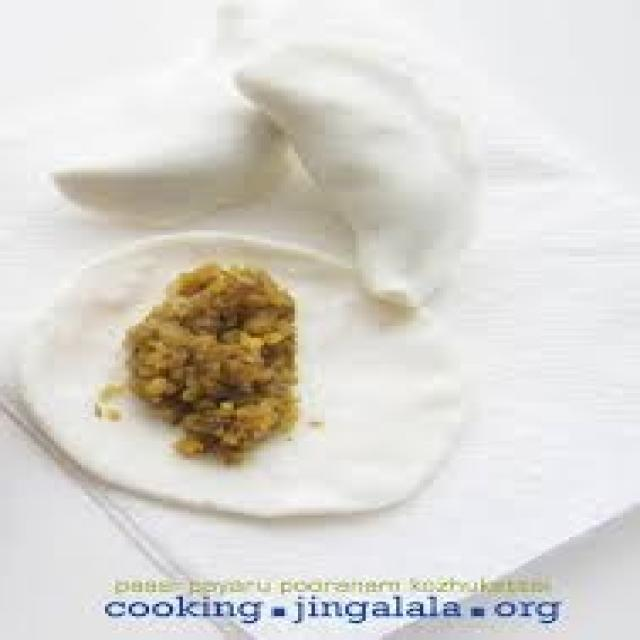poorna kolukattai: (29, 55, 538, 478)
